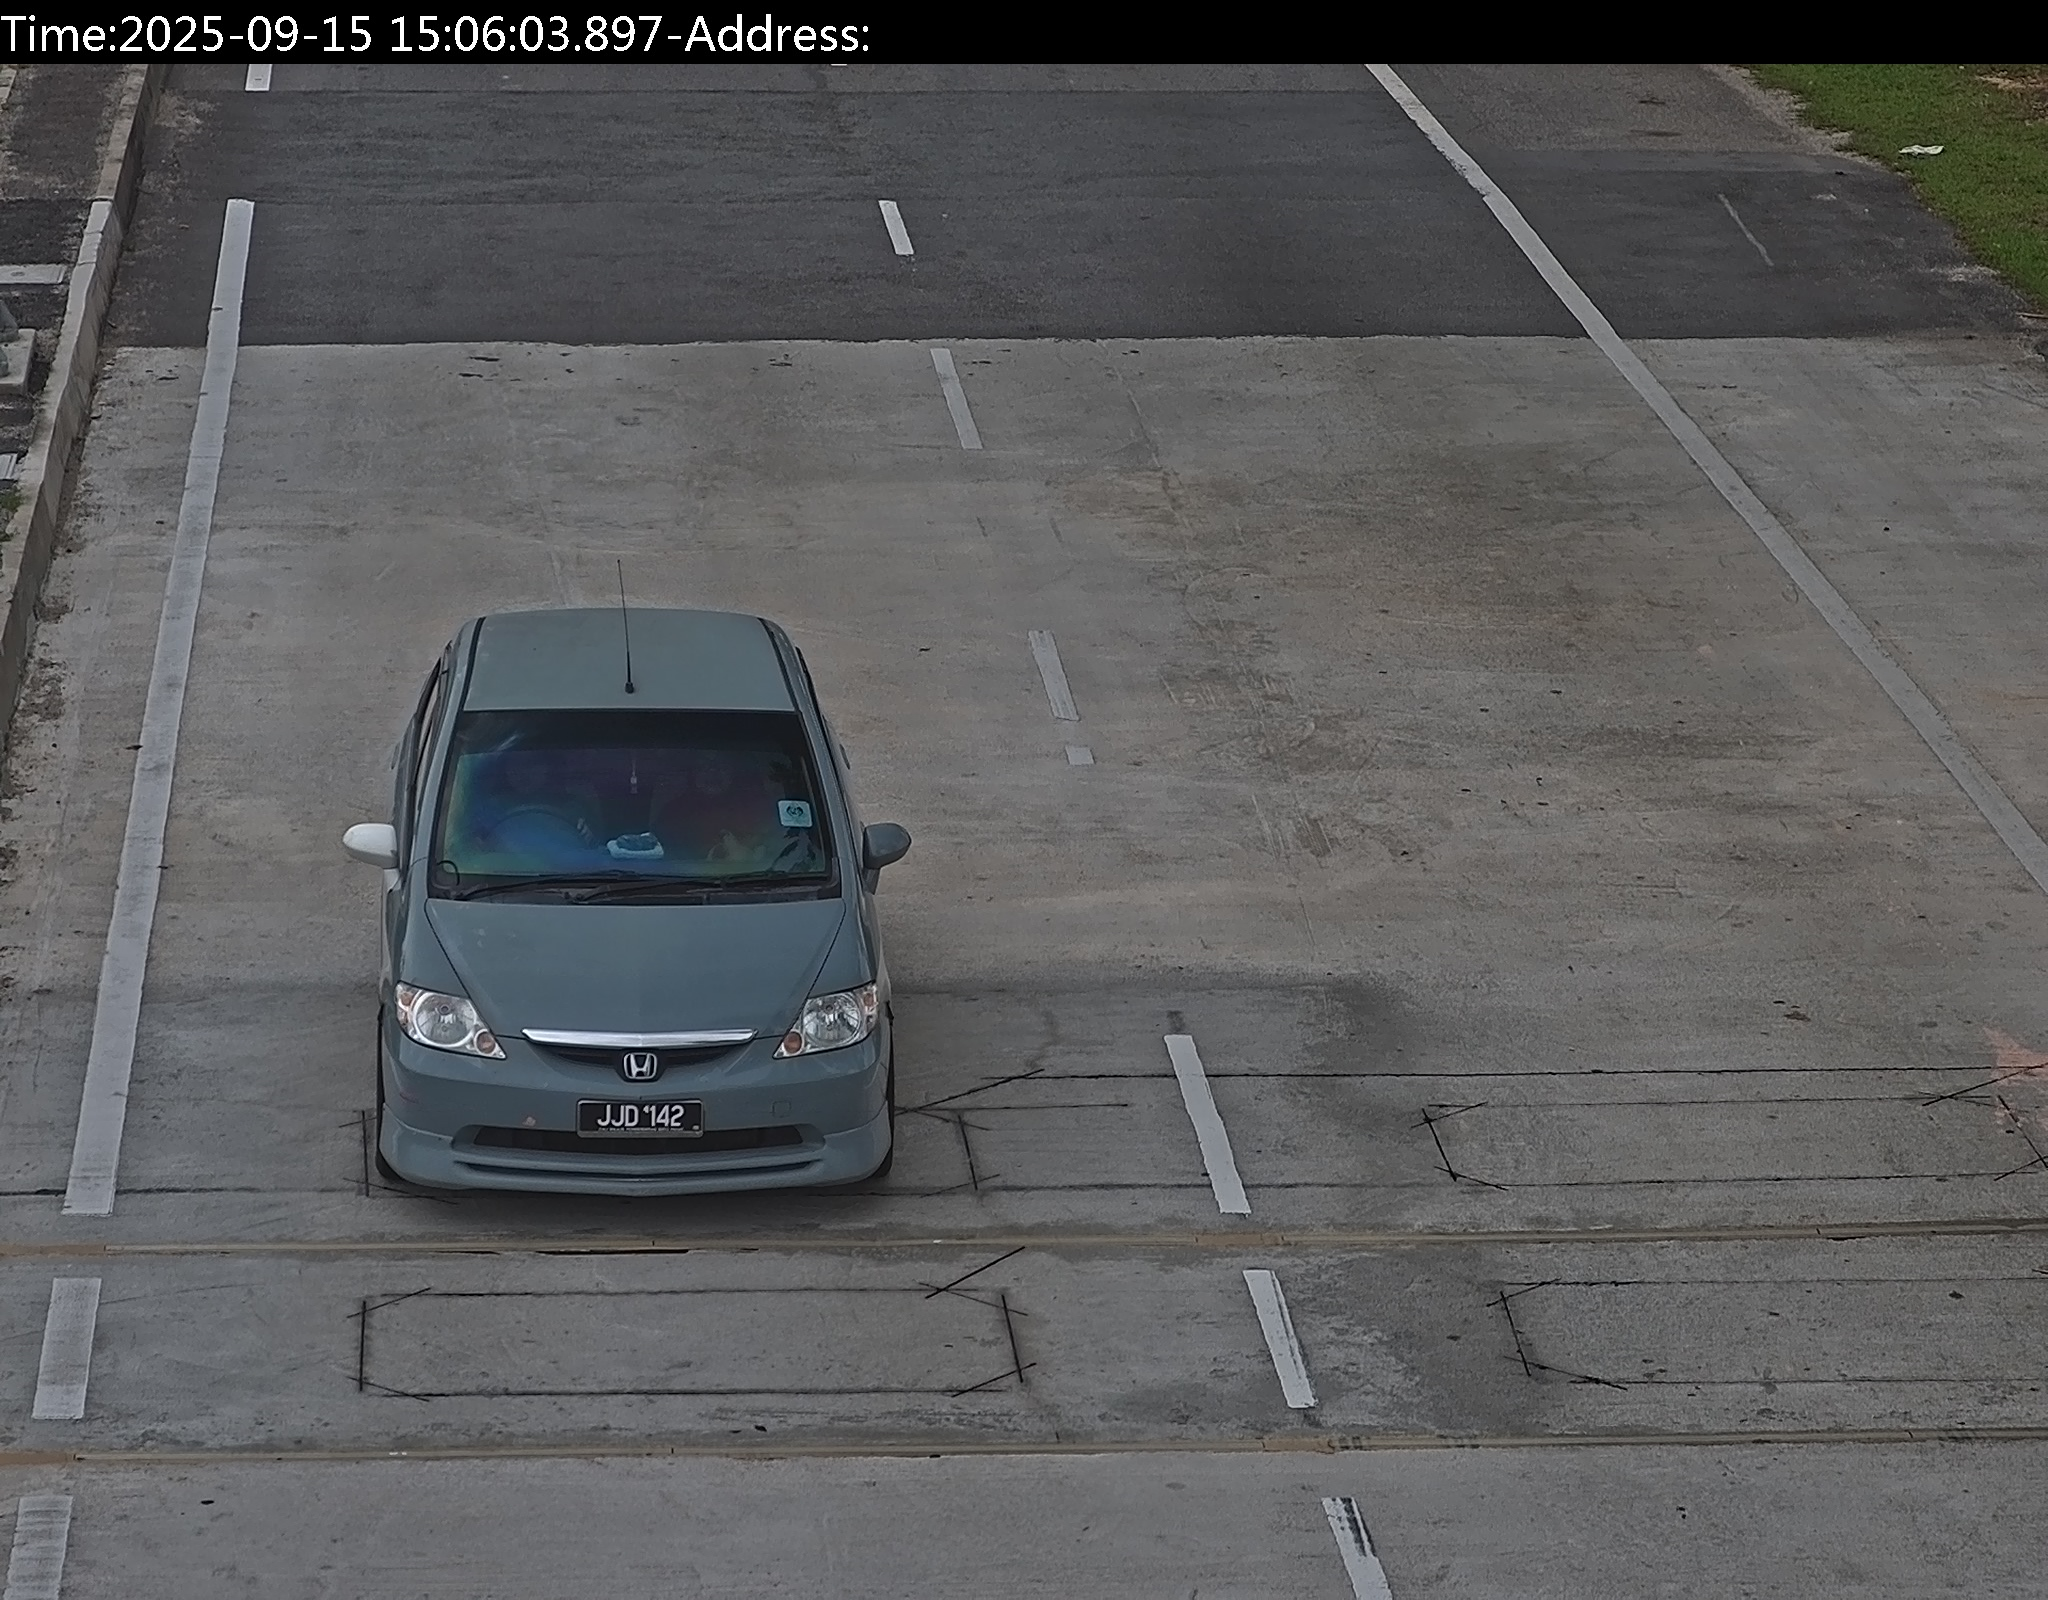class1_lightVehicle: (366, 603, 904, 1189)
license_plate: (581, 1099, 694, 1134)
